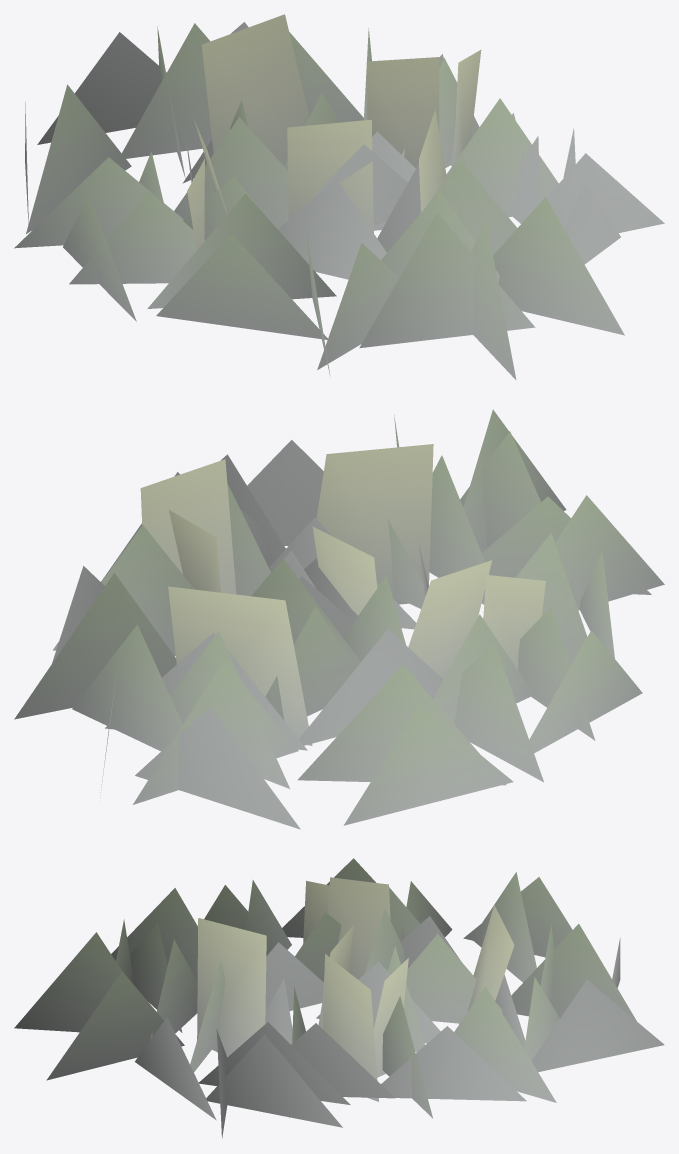
3 views of the same model, one above another, from view 1: azimuth 30°, elevation 25°; view 2: azimuth 150°, elevation 25°; view 3: azimuth 270°, elevation 25° (orthographic). The views are drawn at different scales.
Visible parts, largest first — view 1: G:\FFXIV-MapTools\exports\m5f1\bg\ex4\02_mid_m5\fld\m5f1\bgp; view 2: G:\FFXIV-MapTools\exports\m5f1\bg\ex4\02_mid_m5\fld\m5f1\bgp; view 3: G:\FFXIV-MapTools\exports\m5f1\bg\ex4\02_mid_m5\fld\m5f1\bgp.
Boxes of the visible parts, <box> form: G:\FFXIV-MapTools\exports\m5f1\bg\ex4\02_mid_m5\fld\m5f1\bgp: <box>14,14,664,379</box>; G:\FFXIV-MapTools\exports\m5f1\bg\ex4\02_mid_m5\fld\m5f1\bgp: <box>14,409,664,829</box>; G:\FFXIV-MapTools\exports\m5f1\bg\ex4\02_mid_m5\fld\m5f1\bgp: <box>14,858,664,1138</box>.
Bounding box in the file's own units: 5.45 × 1.69 × 7.13.
